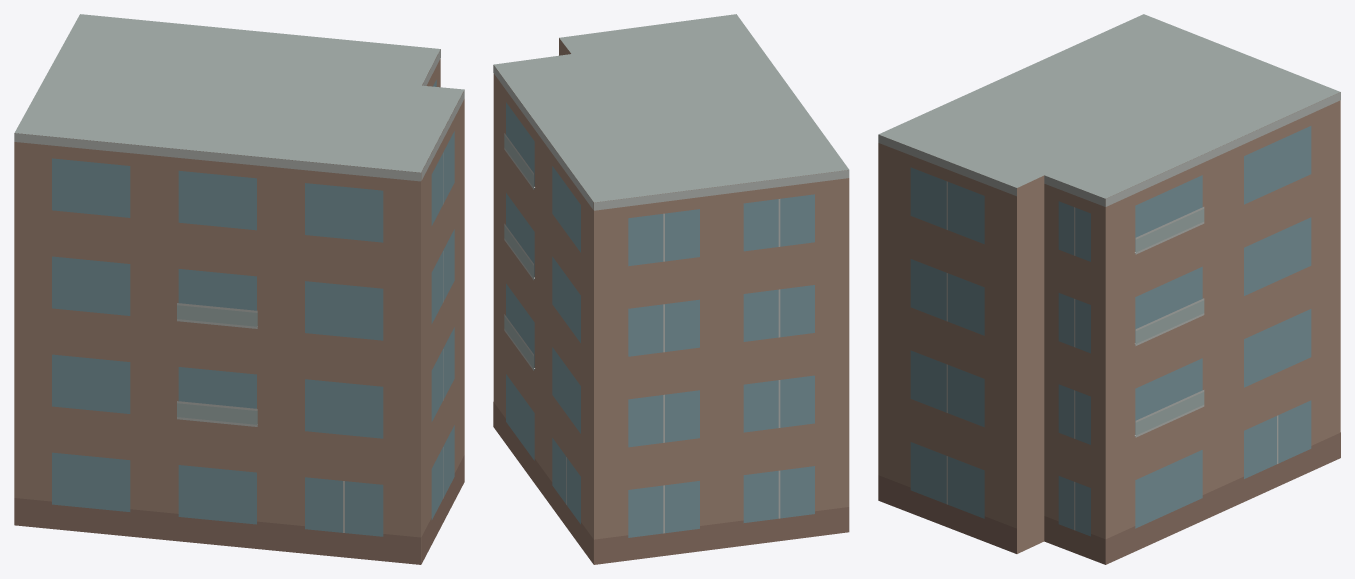
File: survey-upis-32511177.glb
The picture shows the model from 3 angles, left to right: view 1: azimuth 30°, elevation 25°; view 2: azimuth 150°, elevation 25°; view 3: azimuth 270°, elevation 25°; orthographic projection. The views are drawn at different scales.
Visible parts, largest first — view 1: survey-upis-32511177.tmp; view 2: survey-upis-32511177.tmp; view 3: survey-upis-32511177.tmp.
Part boxes in pixels (<box>): survey-upis-32511177.tmp: <box>14,14,464,564</box>; survey-upis-32511177.tmp: <box>493,14,849,564</box>; survey-upis-32511177.tmp: <box>878,14,1340,564</box>.
Size of the model in its own units: 11.65 by 10.75 by 12.31.
